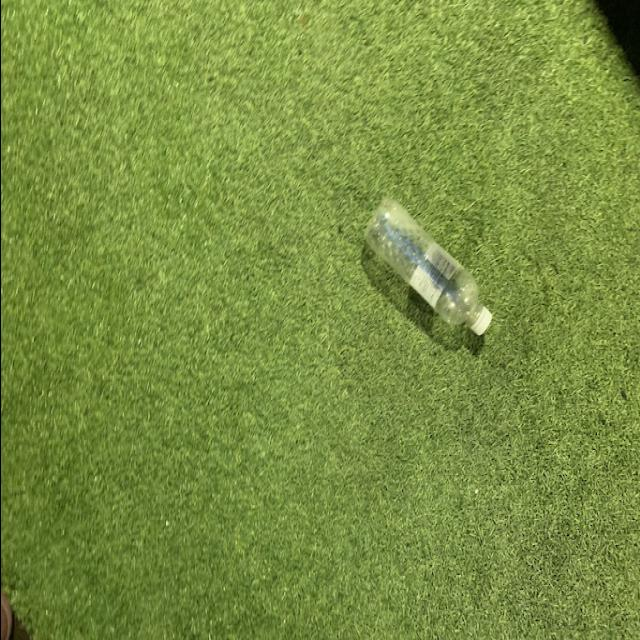PET: (361, 195, 493, 335)
